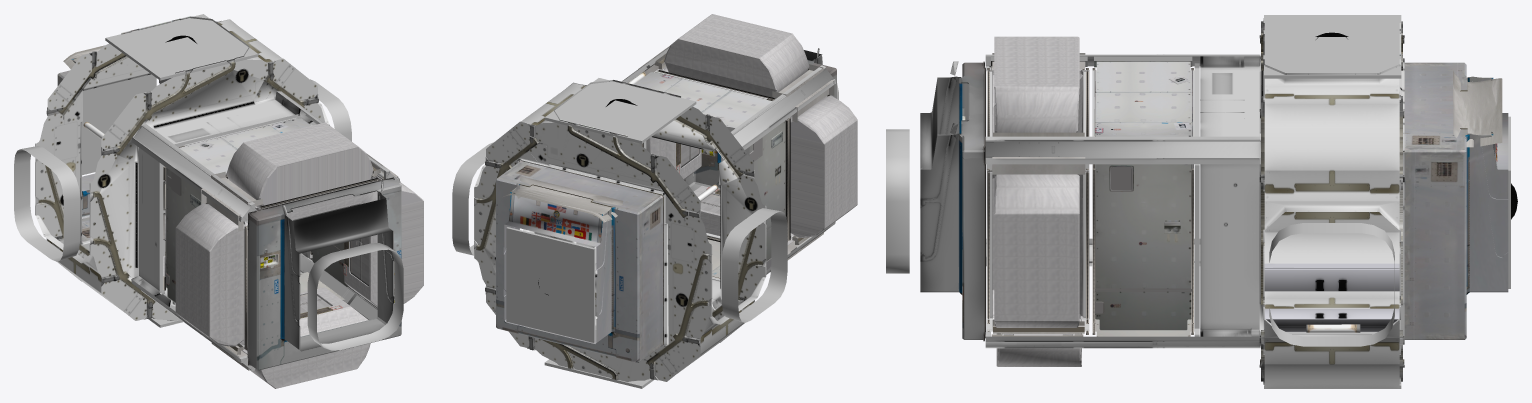
Rendered from node_2_minimal.obj.
3 renders of one model, left to right at view 1: azimuth 30°, elevation 25°; view 2: azimuth 150°, elevation 25°; view 3: azimuth 270°, elevation 25°, orthographic. The views are drawn at different scales.
Visible parts, largest first — view 1: part4, part0, part1, part5, Cube.001, Cube; view 2: part0, part4, part1, Cube, part5, Cube.001, Cube.002; view 3: part4, part0, part1, Cube.001, part5.
Boxes of the visible parts, box(x1,y1,x2,y2) form: part4: box(131, 91, 423, 388); part0: box(35, 16, 329, 323); part1: box(57, 35, 401, 370); part5: box(14, 79, 403, 350); Cube.001: box(105, 14, 258, 80); Cube: box(82, 74, 156, 175); part0: box(474, 80, 766, 381); part4: box(577, 14, 857, 310); part1: box(496, 48, 836, 362); Cube: box(506, 227, 595, 342); part5: box(452, 83, 838, 322); Cube.001: box(544, 78, 696, 143); Cube.002: box(544, 328, 654, 388); part4: box(985, 36, 1260, 366); part0: box(1259, 18, 1404, 388); part1: box(920, 32, 1517, 341); Cube.001: box(1264, 15, 1401, 78); part5: box(886, 129, 1394, 346).
Bounding box in the file's own units: 4.25 × 3.73 × 6.42.
